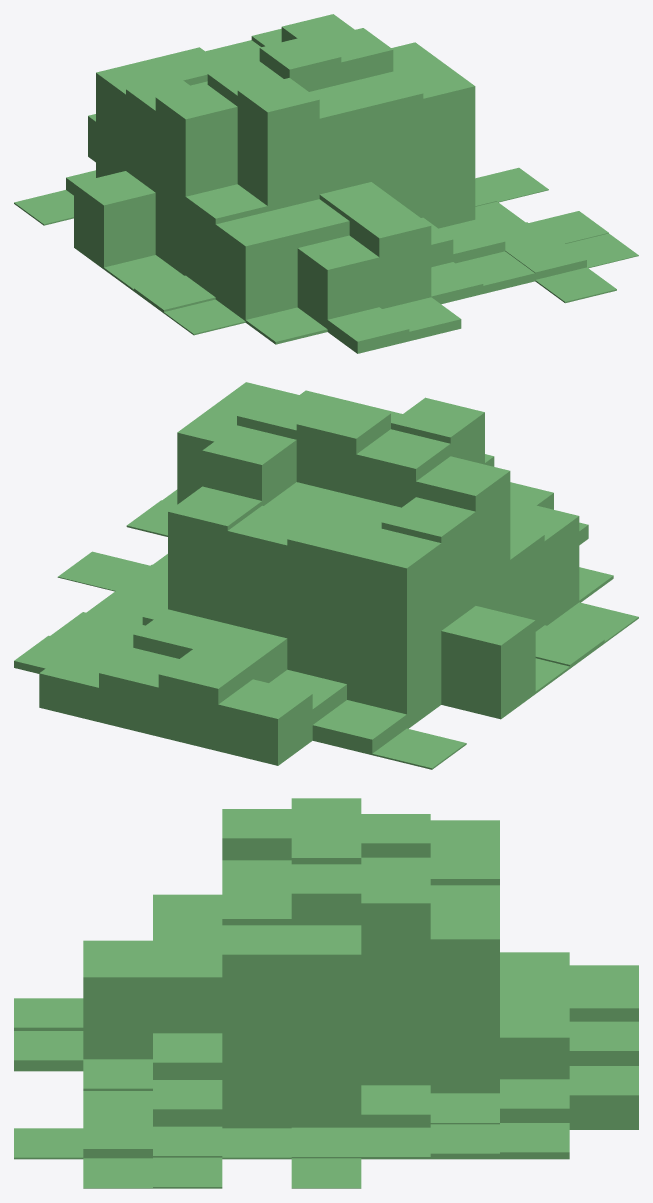
Rendered from SM_Terrain_Mountain_01.fbx.
The picture shows the model from 3 angles, top to bottom: view 1: azimuth 30°, elevation 25°; view 2: azimuth 150°, elevation 25°; view 3: azimuth 270°, elevation 25°; orthographic projection. The views are drawn at different scales.
Parts seen in each view (by area): view 1: SM_Terrain_Mountain_01; view 2: SM_Terrain_Mountain_01; view 3: SM_Terrain_Mountain_01.
Part boxes in pixels (box(x1,y1,x2,y2)): SM_Terrain_Mountain_01: box(14, 14, 638, 353); SM_Terrain_Mountain_01: box(14, 382, 638, 769); SM_Terrain_Mountain_01: box(14, 798, 638, 1188).
Bounding box in the file's own units: 3200 × 1355 × 3600.
